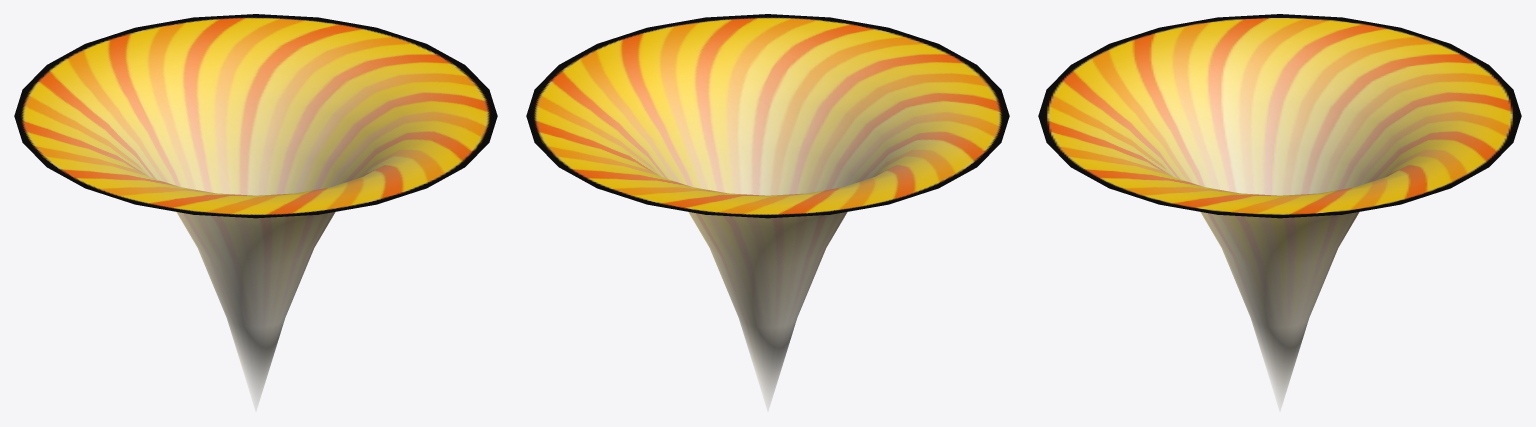
The model's file is Portal.FBX.
The picture shows the model from 3 angles, left to right: view 1: azimuth 30°, elevation 25°; view 2: azimuth 150°, elevation 25°; view 3: azimuth 270°, elevation 25°; orthographic projection.
Visible parts, largest first — view 1: Cylinder01; view 2: Cylinder01; view 3: Cylinder01.
Boxes of the visible parts, bbox=[...] form: Cylinder01: bbox=[14, 14, 497, 411]; Cylinder01: bbox=[526, 14, 1009, 411]; Cylinder01: bbox=[1038, 14, 1521, 411].
Size of the model in its own units: 100 by 67.75 by 100.
Materials: 1 (1 with a texture image).
